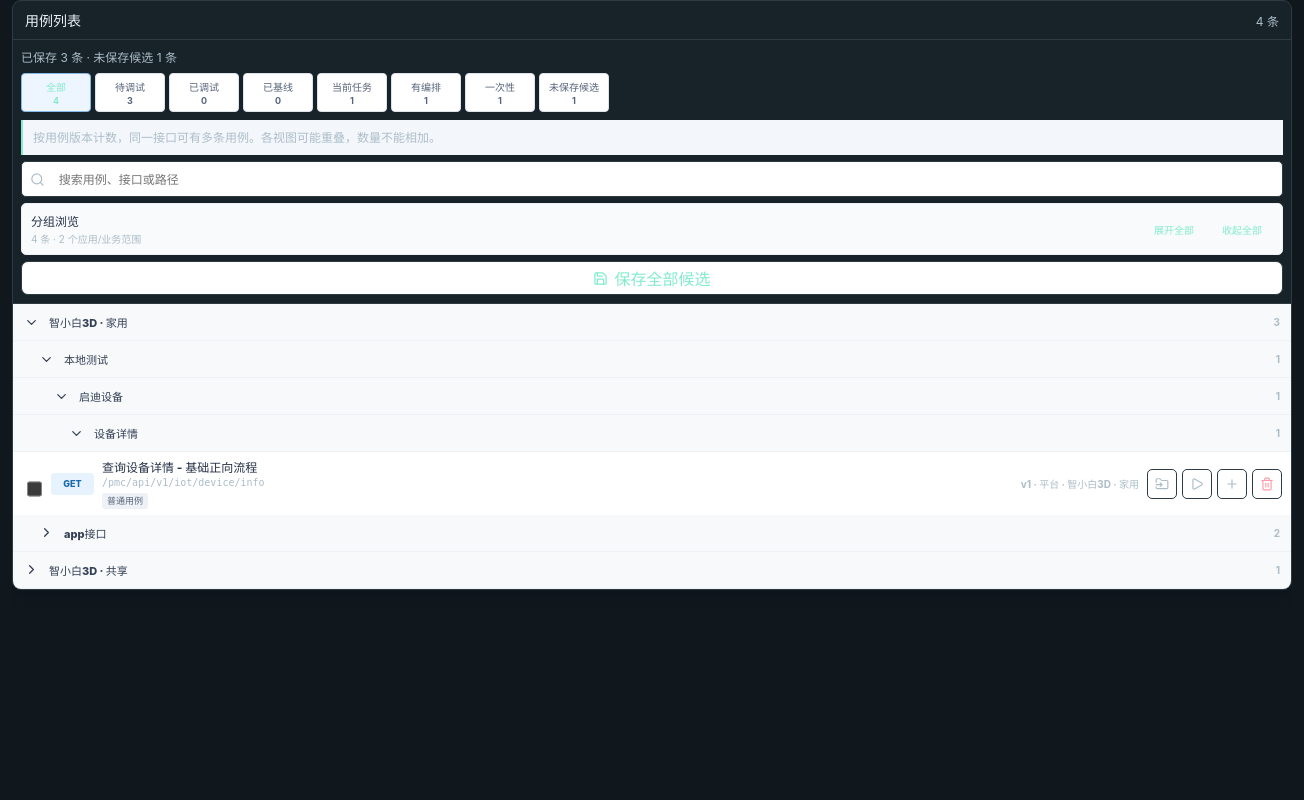
Scenario: CaseListPanel › combines work views with search and explains filtered empty states
The image size is (1304, 800).
Check: the tab with test id "case-work-view-all" shows "4", box left=21, top=73, right=91, bottom=112
Check: the tab with test id "case-work-view-task" shows "1", box left=317, top=73, right=387, bottom=112
Click the tab with test id "case-work-view-one-time". click: (500, 93)
box: left=465, top=73, right=535, bottom=112
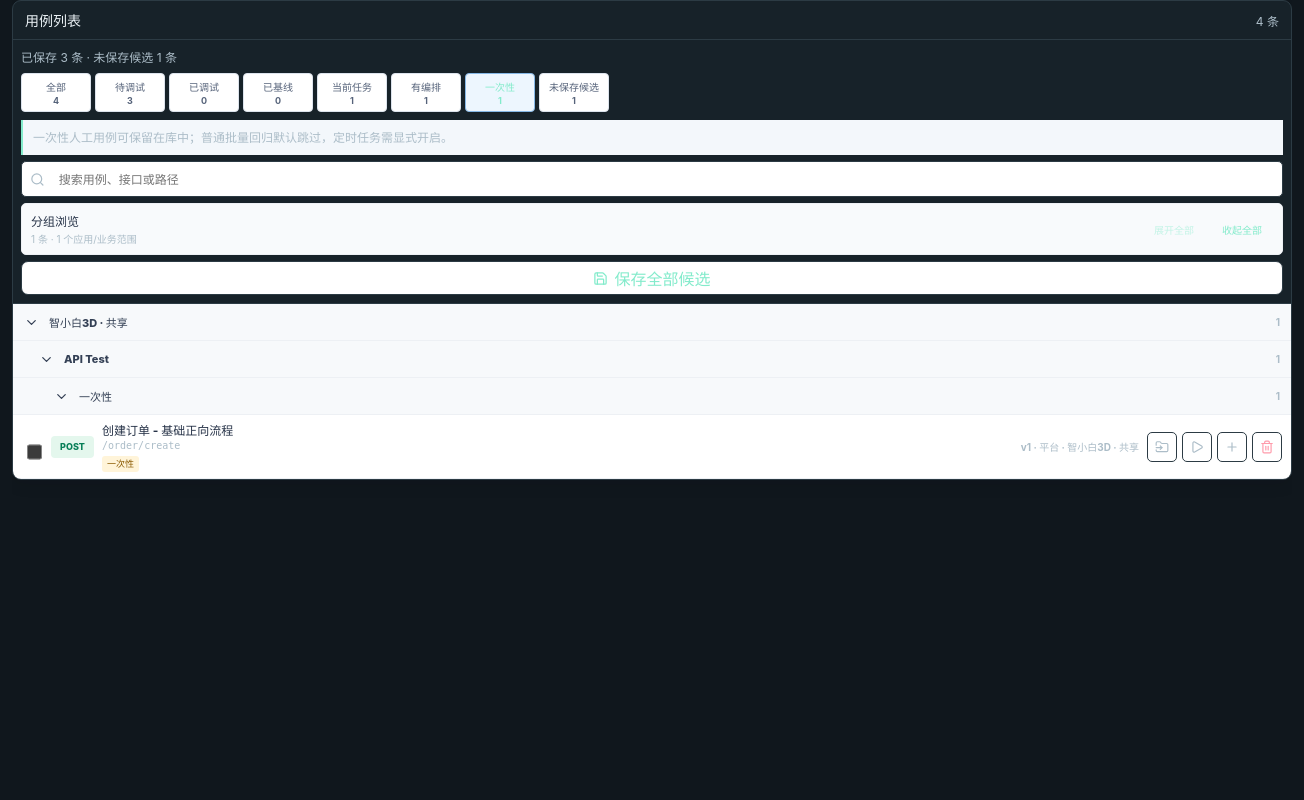
Check: the text with class "lifecycle-one-time" reads "一次性", box left=107, top=458, right=134, bottom=469
Type "设备" into the field with test id "case-list-search" showing "搜索用例、接口或路径". click: (662, 179)
box: left=51, top=162, right=1274, bottom=196
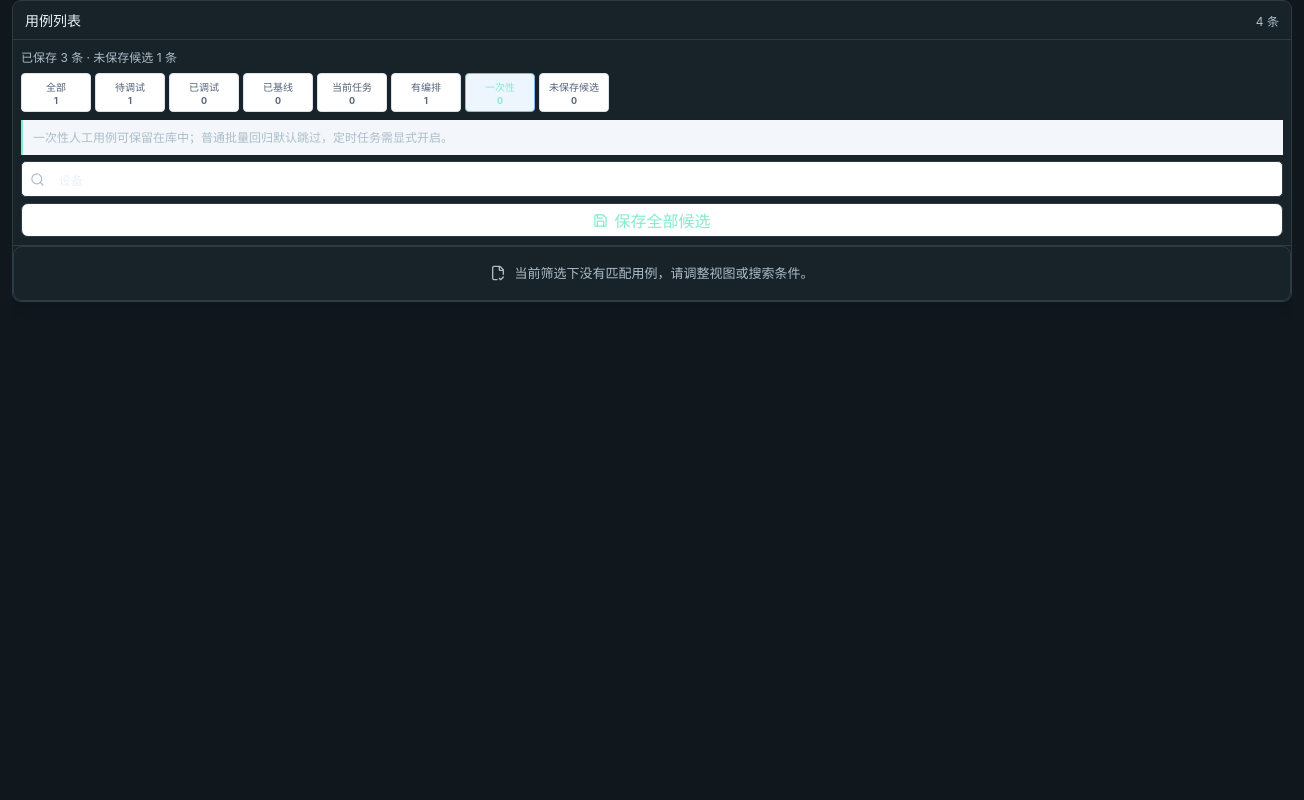
Check: the tab with test id "case-work-view-all" shows "1", box left=21, top=73, right=91, bottom=112
Check: the tab with test id "case-work-view-task" shows "0", box left=317, top=73, right=387, bottom=112
Check: the tab with test id "case-work-view-one-time" shows "0", box left=465, top=73, right=535, bottom=112
Clear the 2nd field with test id "case-list-search". click: (662, 179)
box: left=51, top=162, right=1274, bottom=196
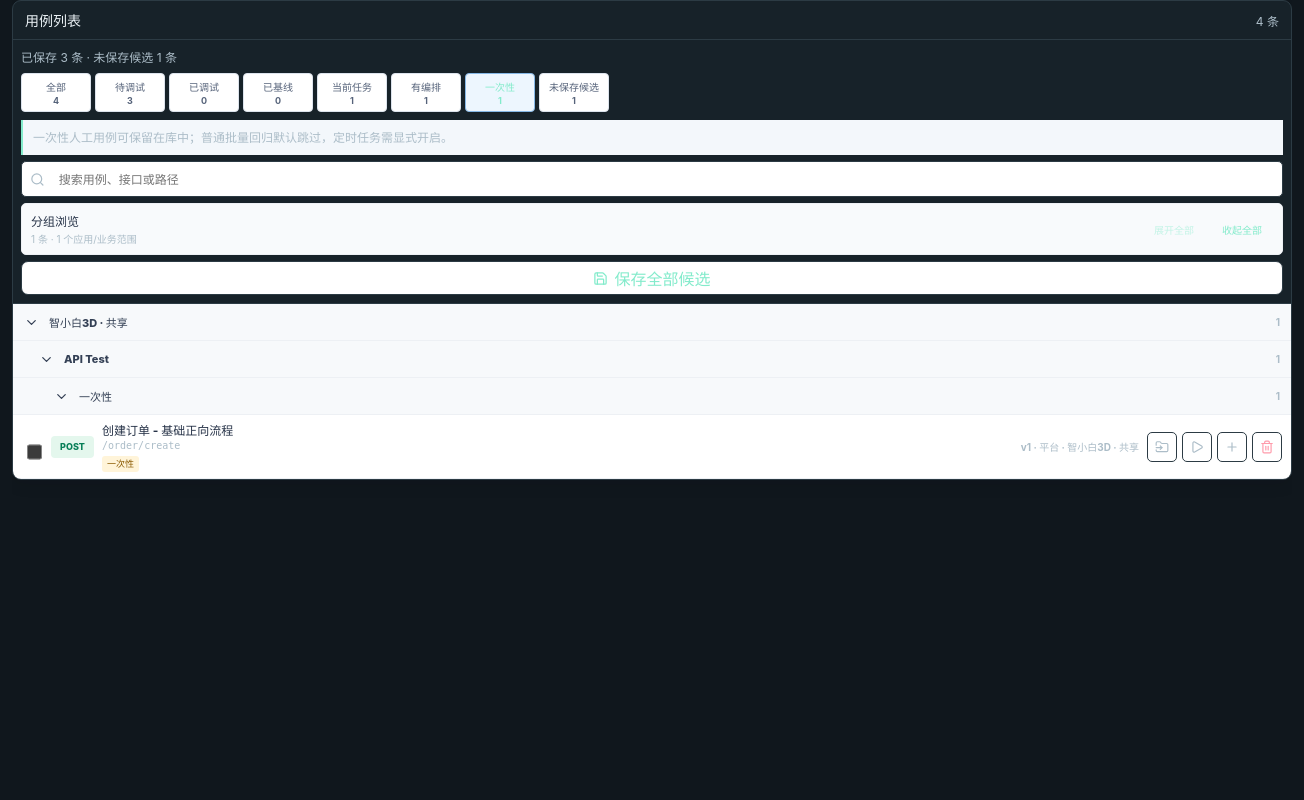
Click the tab with test id "case-work-view-orchestrated". click: (426, 93)
box: left=391, top=73, right=461, bottom=112
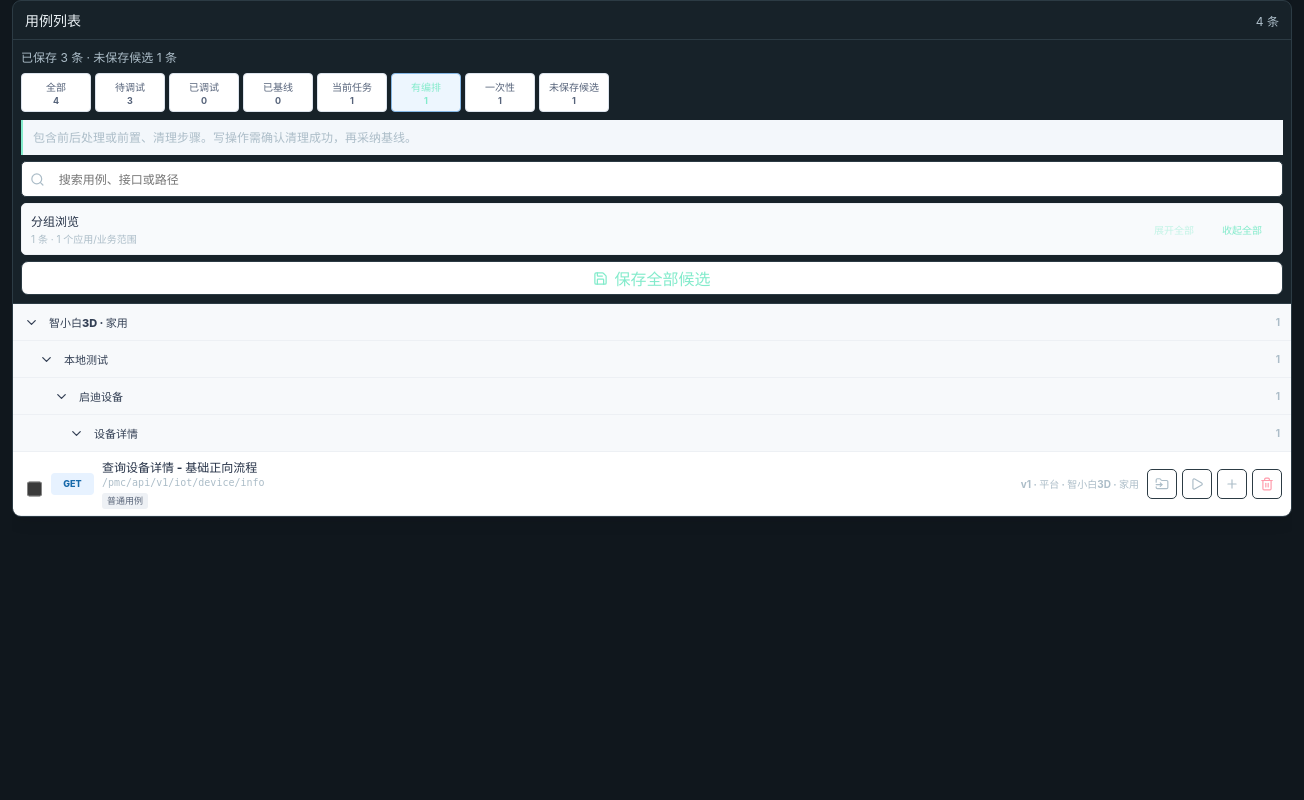
Check: the element with test id "case-version-version-device" is shown, box left=13, top=452, right=1291, bottom=515
Type "不存在" into the field with test id "case-list-search" showing "搜索用例、接口或路径". click: (662, 179)
box: left=51, top=162, right=1274, bottom=196
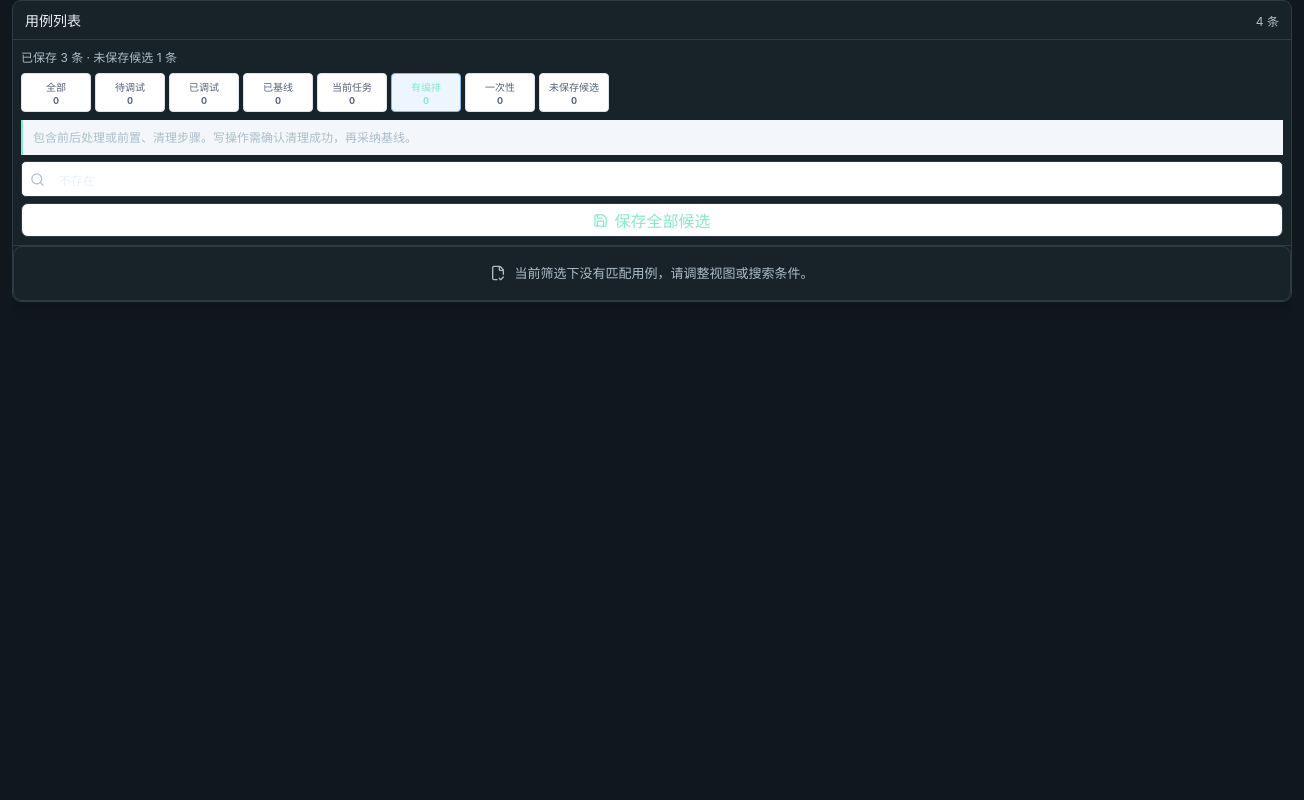
Check: the element with test id "case-list-empty" shows "当前筛选下没有匹配用例", box left=514, top=265, right=814, bottom=281
